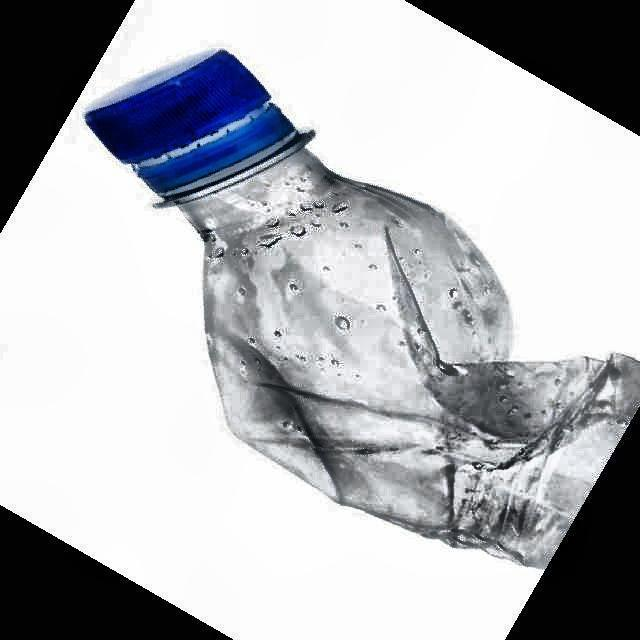plastic: (85, 51, 640, 567)
